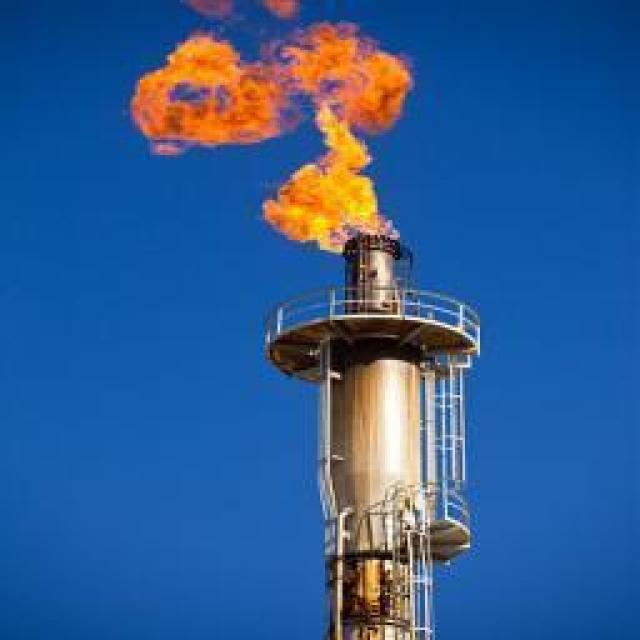fire: (132, 21, 413, 257), (179, 2, 233, 15)
